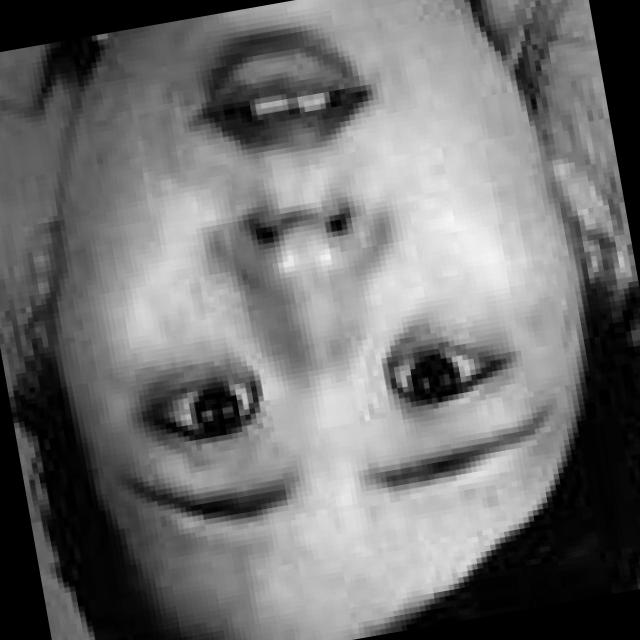fear: (81, 0, 598, 632)
